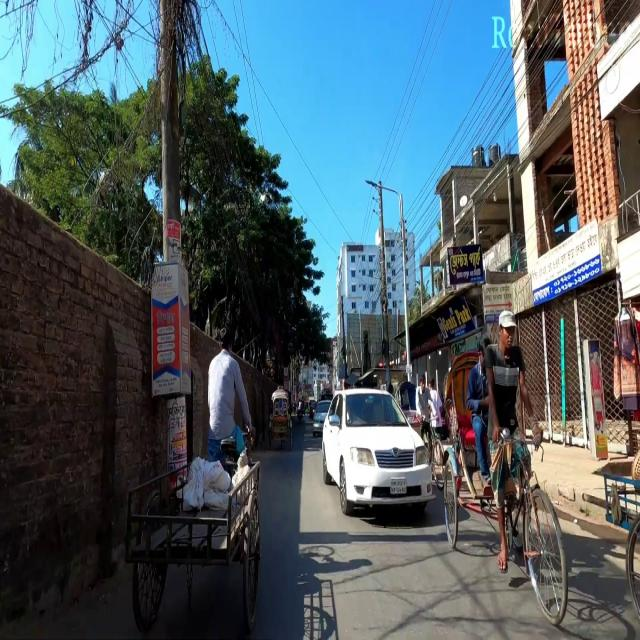white: (326, 384, 436, 523)
